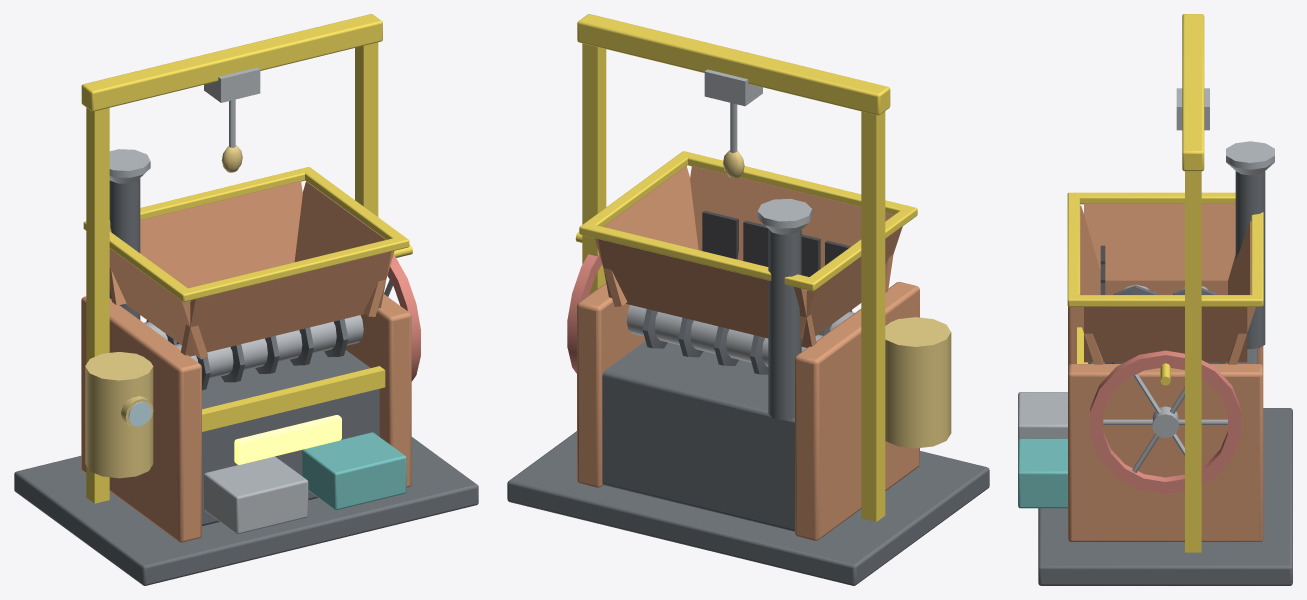
The model's file is machine_tyre_stripper.fbx.
3 views of the same model, side by side, from view 1: azimuth 30°, elevation 25°; view 2: azimuth 150°, elevation 25°; view 3: azimuth 270°, elevation 25° (orthographic). The views are drawn at different scales.
Parts seen in each view (by area): view 1: machine_tyre_stripper, Upgrade_Lvl1, RollerPivotA, GlowMesh, FlywheelPivot; view 2: machine_tyre_stripper, Upgrade_Lvl1, RollerPivotB, FlywheelPivot; view 3: machine_tyre_stripper, Upgrade_Lvl1, FlywheelPivot.
Part boxes in pixels (x1=…): machine_tyre_stripper: x1=14, y1=149, x2=478, y2=585; Upgrade_Lvl1: x1=81, y1=14, x2=382, y2=503; RollerPivotA: x1=174, y1=315, x2=363, y2=390; GlowMesh: x1=234, y1=415, x2=341, y2=464; FlywheelPivot: x1=384, y1=244, x2=420, y2=381; machine_tyre_stripper: x1=507, y1=151, x2=989, y2=585; Upgrade_Lvl1: x1=577, y1=14, x2=951, y2=521; RollerPivotB: x1=626, y1=305, x2=822, y2=374; FlywheelPivot: x1=567, y1=231, x2=601, y2=373; machine_tyre_stripper: x1=1018, y1=141, x2=1292, y2=585; Upgrade_Lvl1: x1=1176, y1=14, x2=1209, y2=552; FlywheelPivot: x1=1090, y1=350, x2=1241, y2=493.
Bounding box in the file's own units: 2.08 × 2.54 × 1.49.
